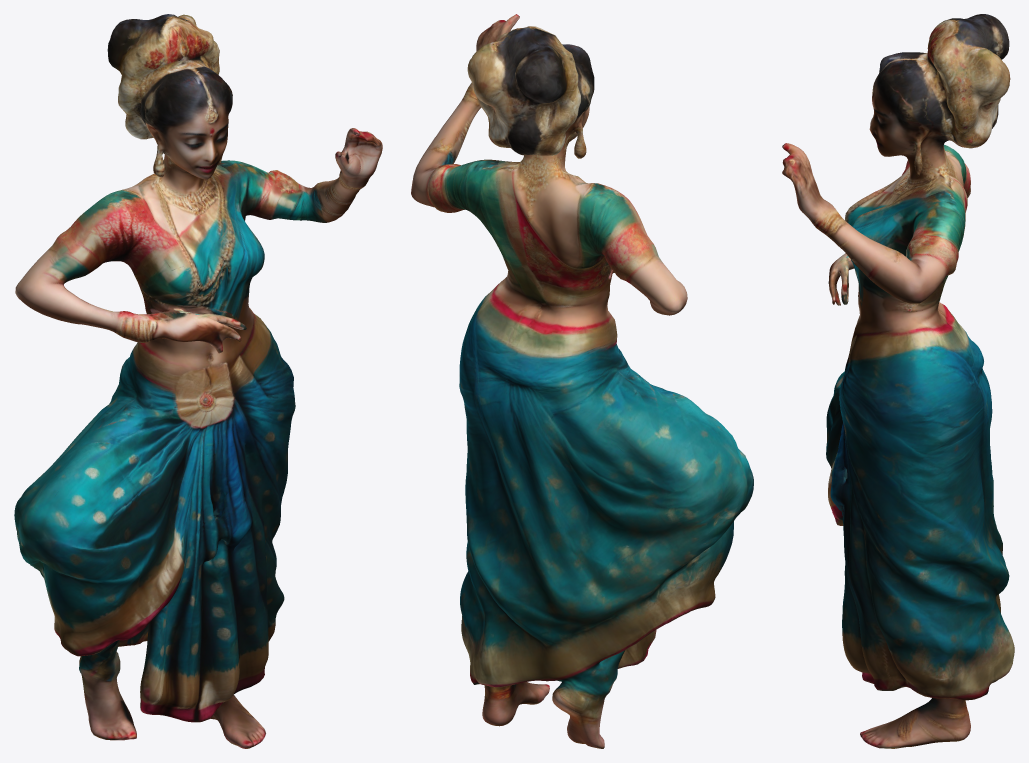
3 views of the same model, side by side, from view 1: azimuth 30°, elevation 25°; view 2: azimuth 150°, elevation 25°; view 3: azimuth 270°, elevation 25° (orthographic).
Bounding box in the file's own units: 0.9506 × 2 × 0.5978.
Materials: 1 (1 with a texture image).
